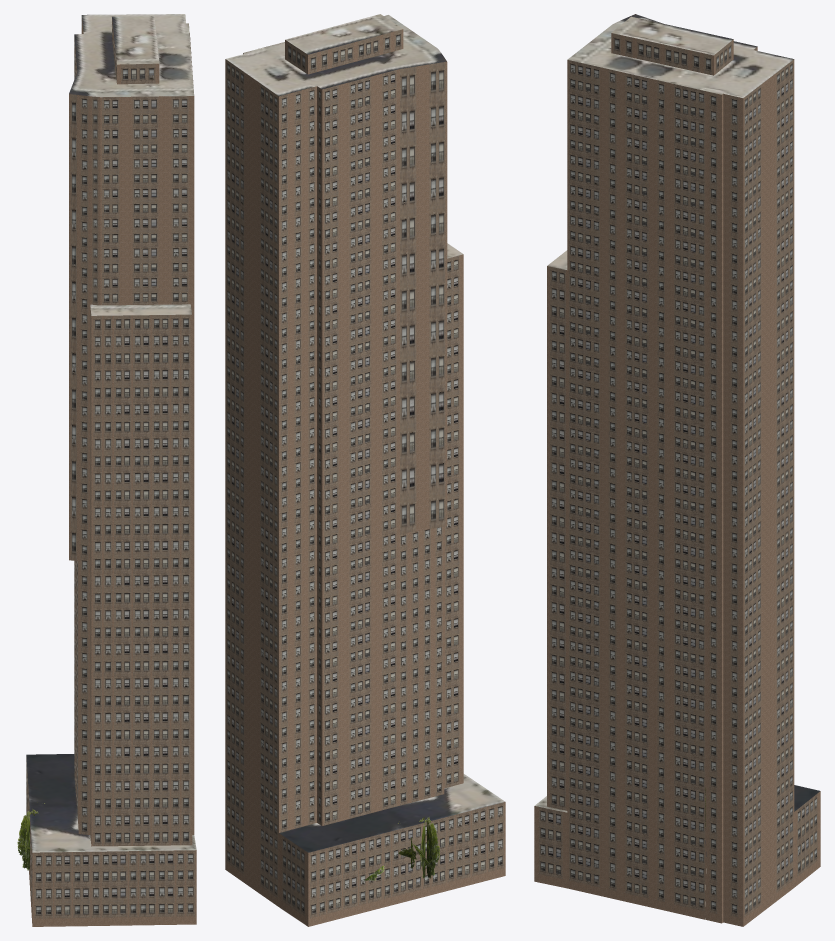
Rendered from building32.fbx.
3 views of the same model, side by side, from view 1: azimuth 30°, elevation 25°; view 2: azimuth 150°, elevation 25°; view 3: azimuth 270°, elevation 25° (orthographic). The views are drawn at different scales.
Visible parts, largest first — view 1: geometryt040100010000000110110100010110100110110st65_Bi_9d1d, Object.292, geometryt040100010000000110110100010110100110110st64_Bi_6142; view 2: geometryt040100010000000110110100010110100110110st65_Bi_9d1d, Object.292, geometryt040100010000000110110100010110100110110st64_Bi_6142; view 3: geometryt040100010000000110110100010110100110110st65_Bi_9d1d, Object.292, geometryt040100010000000110110100010110100110110st64_Bi_6142.
Boxes of the visible parts, x1,y1,x2,y2 form: geometryt040100010000000110110100010110100110110st65_Bi_9d1d: (26,17,194,918); Object.292: (28,20,196,926); geometryt040100010000000110110100010110100110110st64_Bi_6142: (26,14,196,852); geometryt040100010000000110110100010110100110110st65_Bi_9d1d: (226,29,503,918); Object.292: (225,29,505,926); geometryt040100010000000110110100010110100110110st64_Bi_6142: (226,14,504,852); geometryt040100010000000110110100010110100110110st65_Bi_9d1d: (539,33,817,917); Object.292: (534,33,820,926); geometryt040100010000000110110100010110100110110st64_Bi_6142: (534,14,819,919).
Bounding box in the file's own units: 4579 × 16800 × 5133.
Materials: 4 (4 with a texture image).
